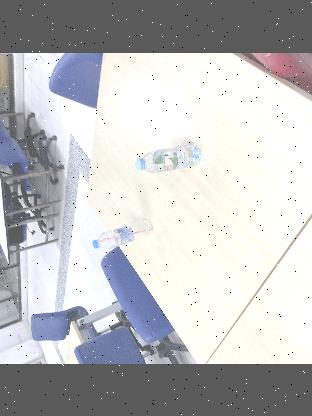Plastic Bottle: (134, 141, 203, 175), (90, 216, 156, 250)
